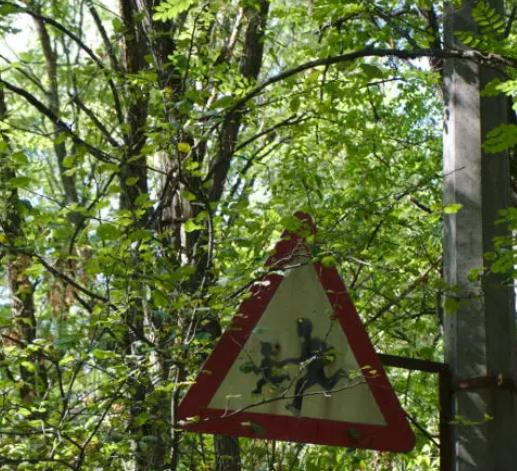obstructed_road_sign: (171, 211, 417, 454)
